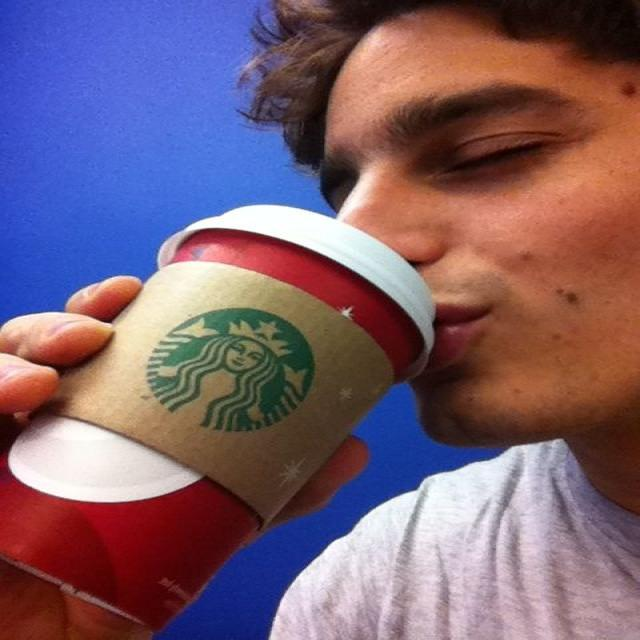starbucks: (151, 303, 315, 449)
